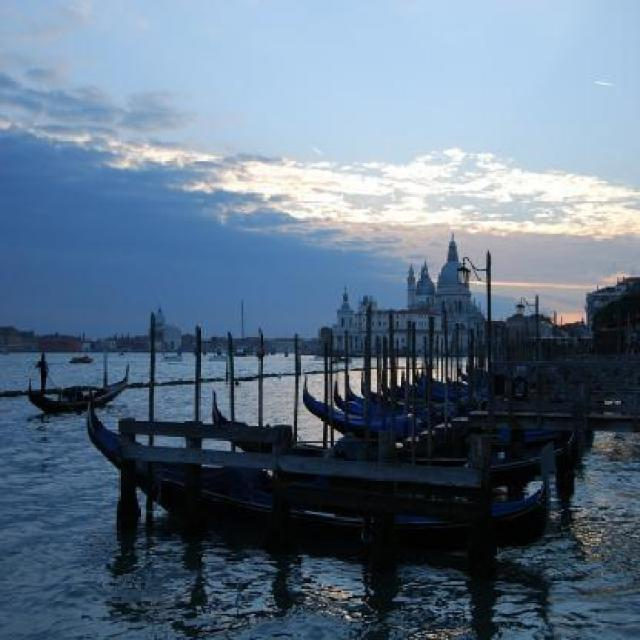ship: (82, 392, 553, 554), (300, 374, 589, 446), (26, 363, 128, 415), (70, 353, 92, 364), (158, 354, 182, 361)
